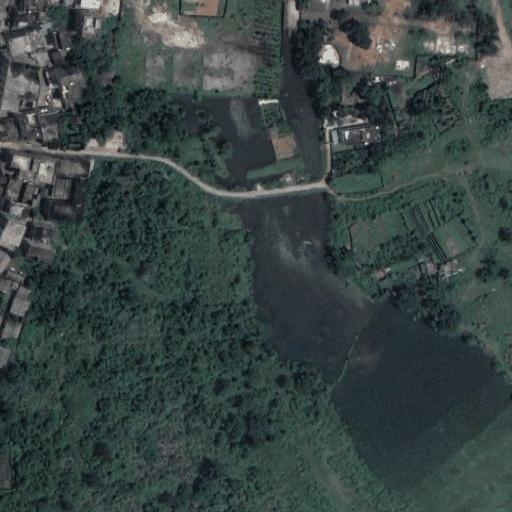building: (47, 181, 86, 223), (55, 157, 95, 182), (54, 67, 84, 100), (8, 31, 46, 56), (10, 152, 40, 182), (32, 106, 57, 139), (10, 286, 33, 318), (313, 41, 340, 68), (23, 222, 51, 248), (336, 117, 375, 135), (14, 110, 38, 139), (37, 156, 58, 185), (16, 242, 46, 262), (0, 214, 21, 241), (72, 10, 93, 36), (0, 447, 13, 489), (0, 319, 21, 344), (53, 179, 75, 198), (4, 179, 23, 200), (0, 115, 15, 138), (8, 201, 29, 217), (21, 185, 37, 205), (34, 50, 50, 70), (6, 270, 25, 284), (0, 348, 11, 370), (53, 32, 64, 50), (326, 120, 338, 136), (46, 34, 56, 51), (52, 52, 64, 66), (40, 20, 55, 31), (0, 236, 12, 247), (48, 70, 56, 86), (421, 261, 431, 273), (48, 92, 58, 101), (10, 282, 18, 289), (39, 14, 46, 22), (418, 257, 426, 264)
